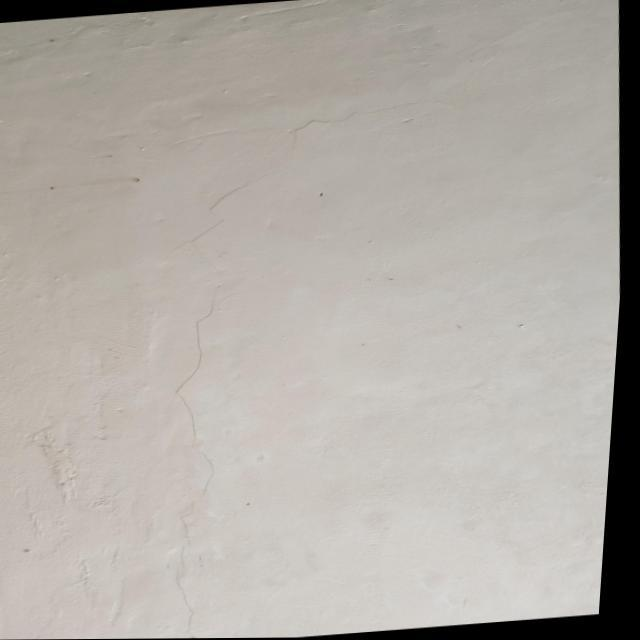Crack: (169, 106, 361, 631)
